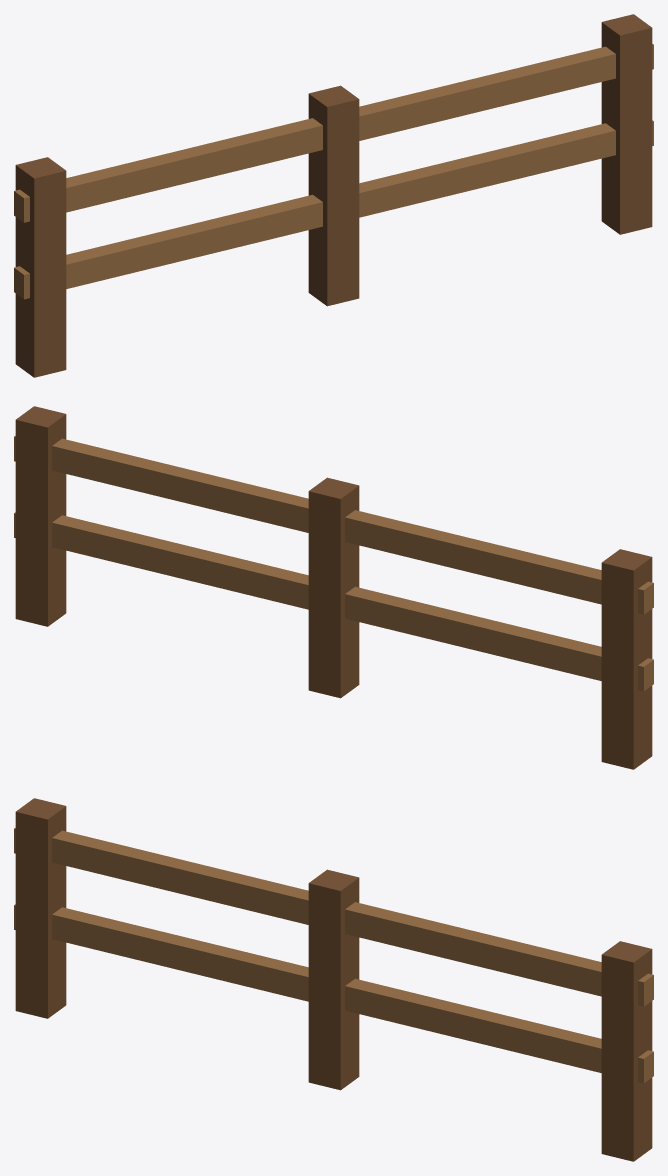
File: fence.glb
3 renders of one model, top to bottom at view 1: azimuth 30°, elevation 25°; view 2: azimuth 150°, elevation 25°; view 3: azimuth 330°, elevation 25°, orthographic.
Parts seen in each view (by area): view 1: fence; view 2: fence; view 3: fence.
Boxes of the visible parts, x1,y1,x2,y2 form: fence: (14, 14, 653, 377); fence: (14, 406, 653, 769); fence: (14, 798, 653, 1161).
Bounding box in the file's own units: 4.3 × 1.3 × 0.22.
